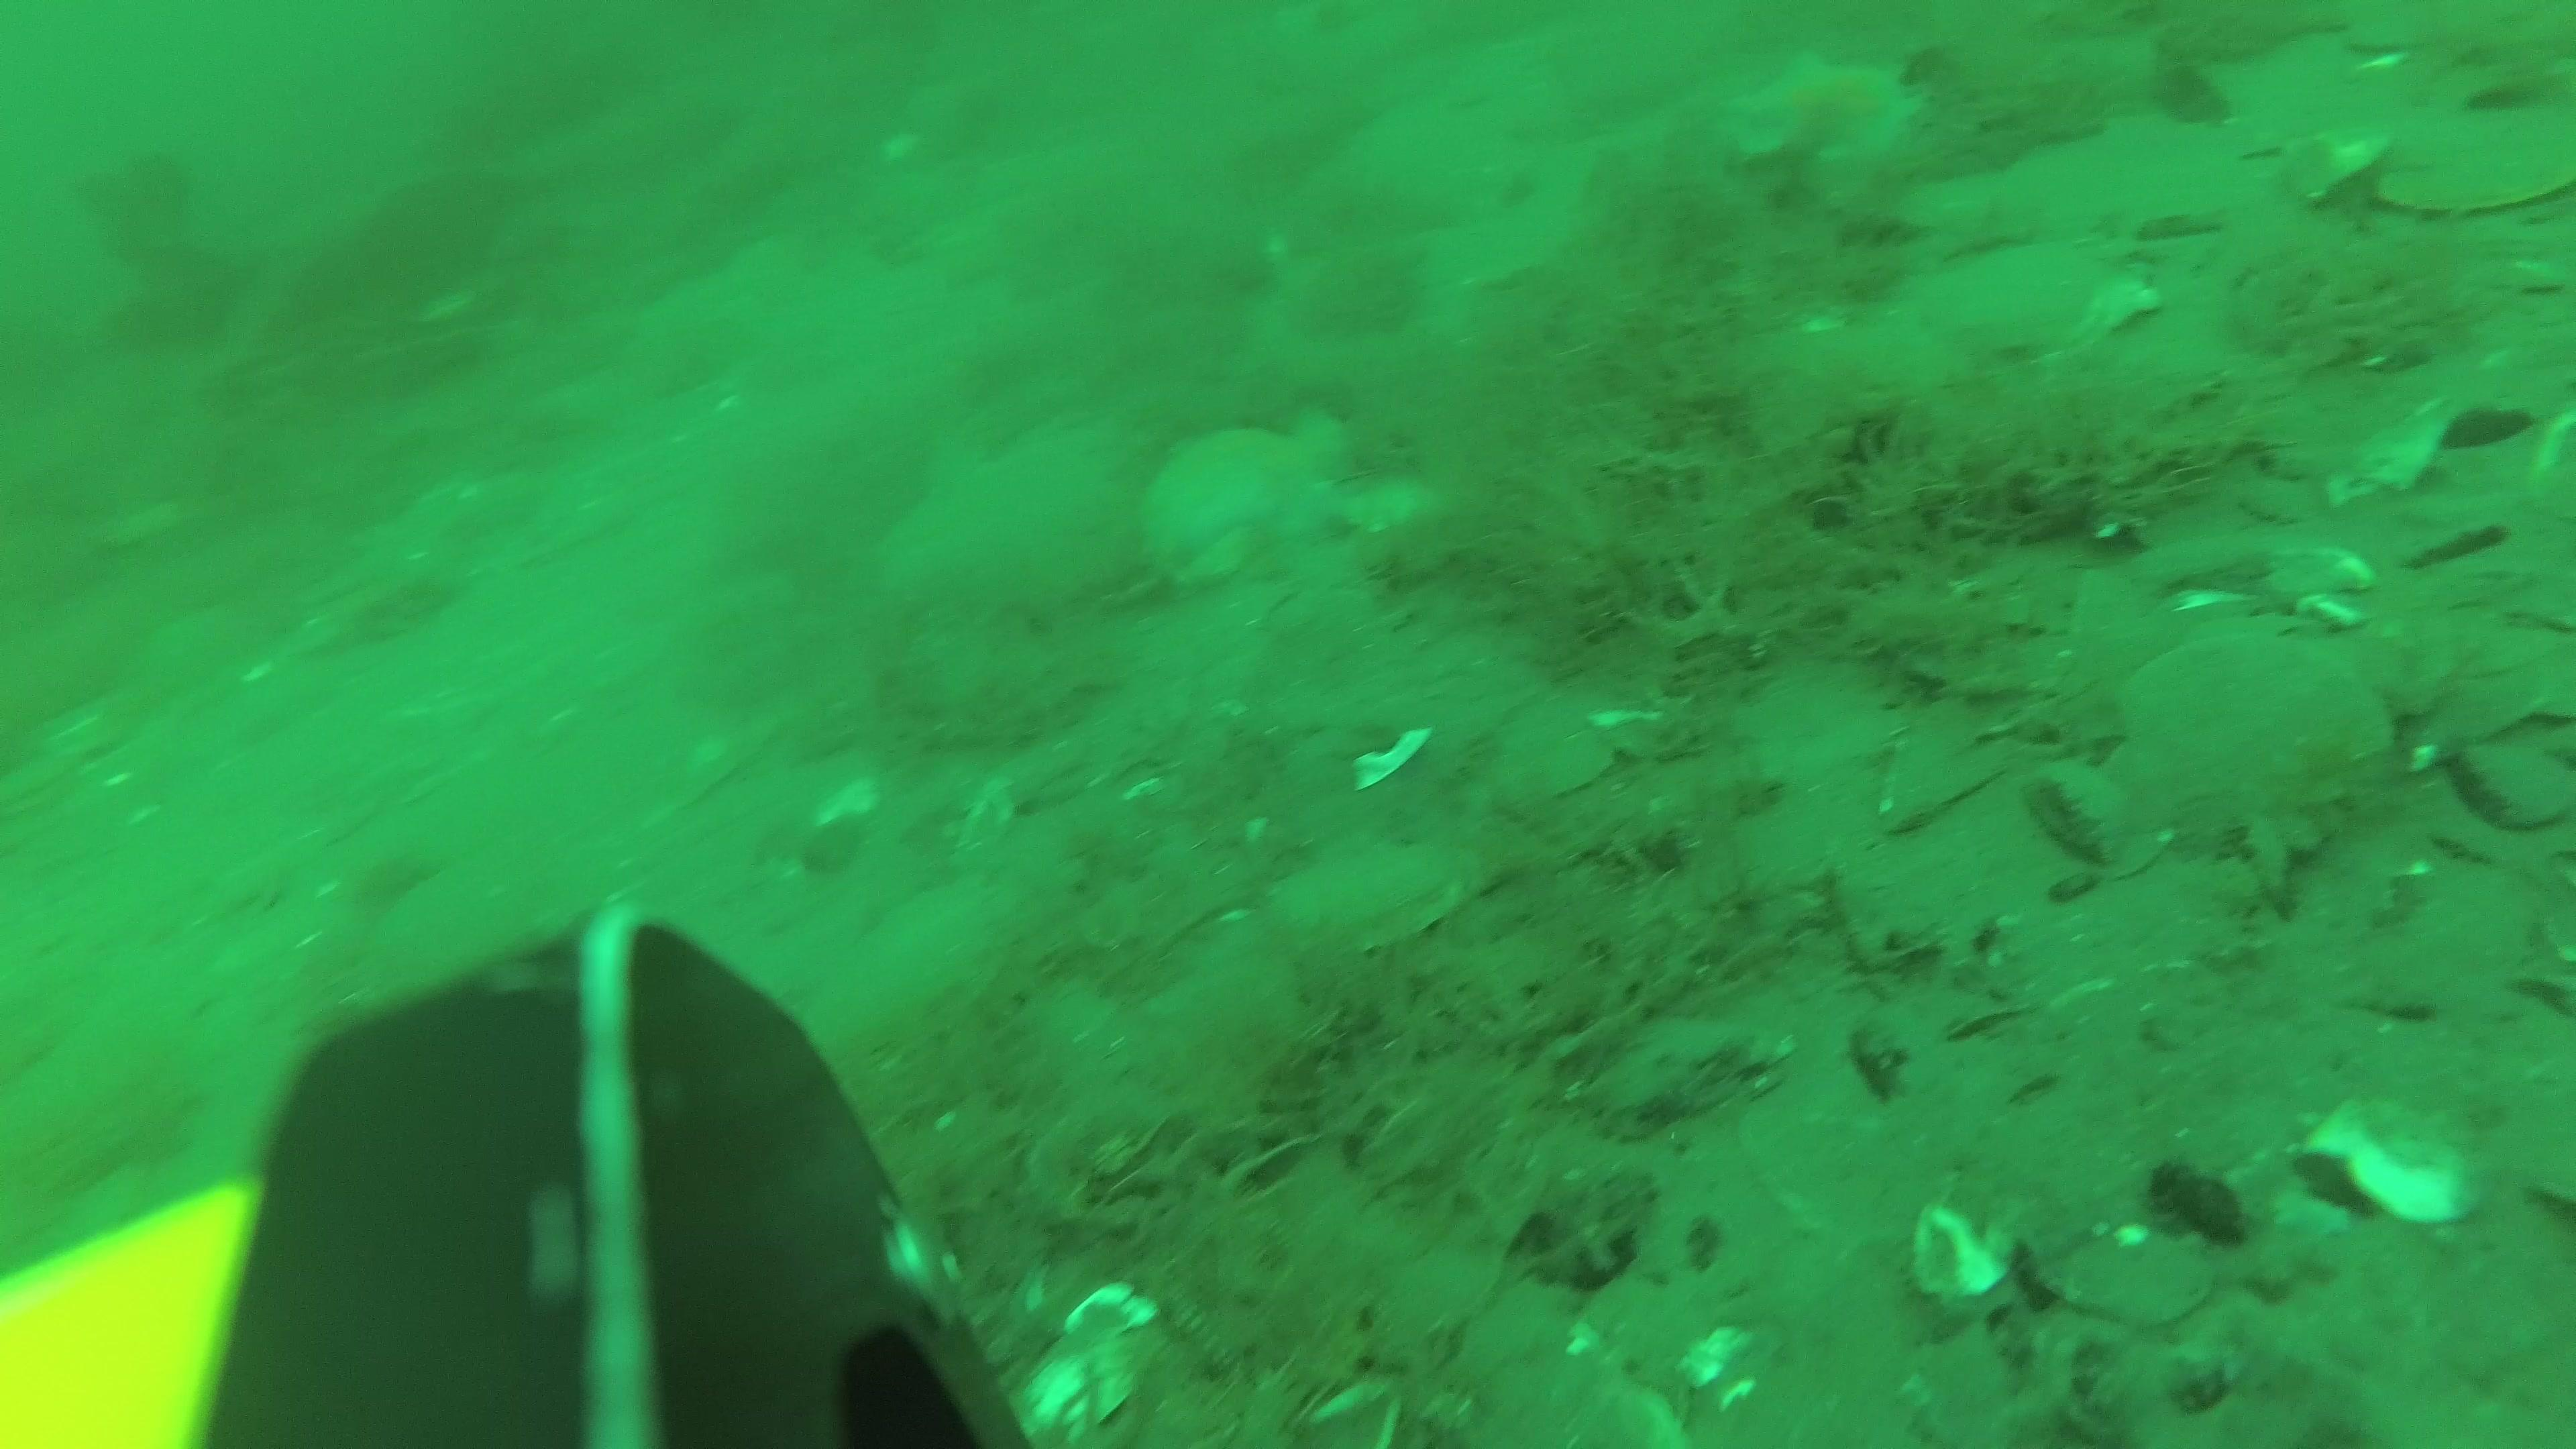scallop: (2107, 626, 2383, 807), (1269, 837, 1497, 950), (1921, 241, 2148, 352), (2369, 104, 2576, 219), (2066, 1224, 2208, 1322)
starfish: (1122, 419, 1339, 568), (1737, 53, 1914, 166)
